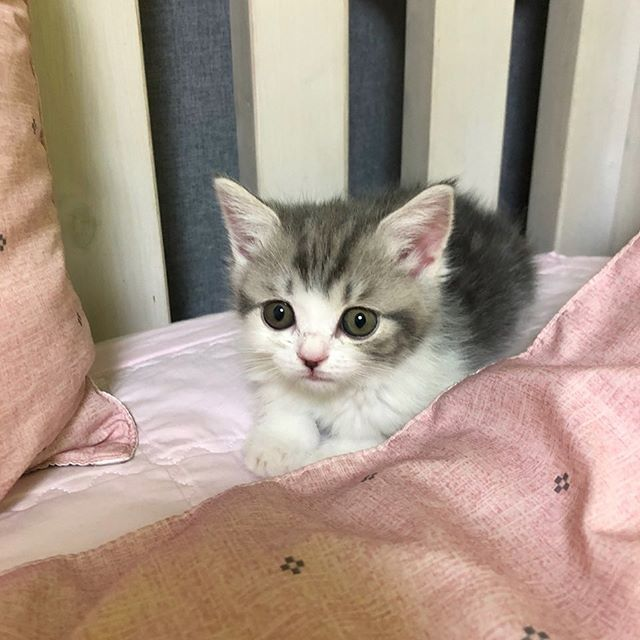cat: (210, 173, 457, 393)
